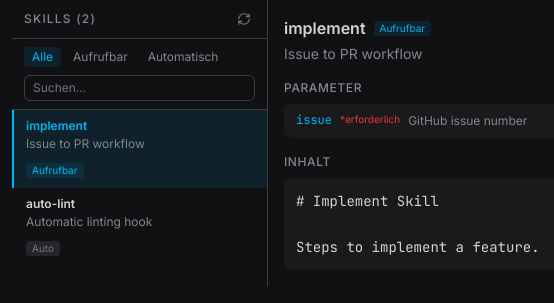
SkillsViewer › filters skills by invokable type
Check: the text "Skills (2)" is shown, box [24,11,96,27]
// Filter to "Aufrufbar" (user-invokable) — multiple "Aufrufbar" exist (filter btn + badge)
Click the button "Aufrufbar".
click(100, 57)  # box [65,47,136,67]
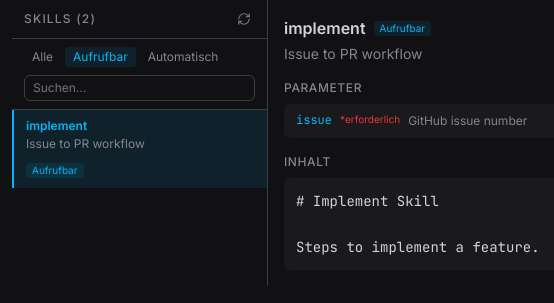
Check: the button "auto-lint" is gone
// Filter to "Automatisch"
Click the button "Automatisch".
click(183, 57)  # box [140,47,226,67]
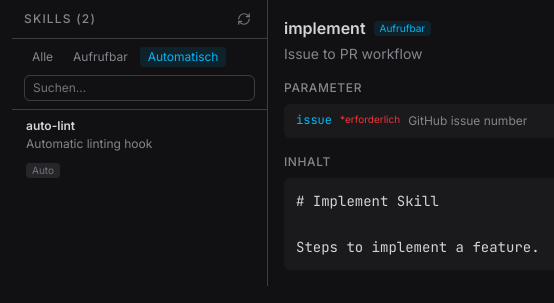
Check: the text "auto-lint" is shown, box [26,118,75,134]
